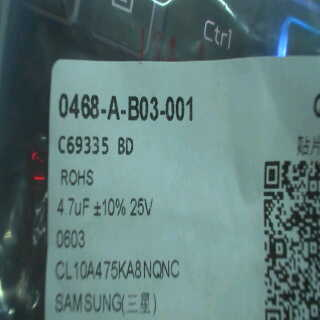4.7uF: (53, 192, 91, 221)
